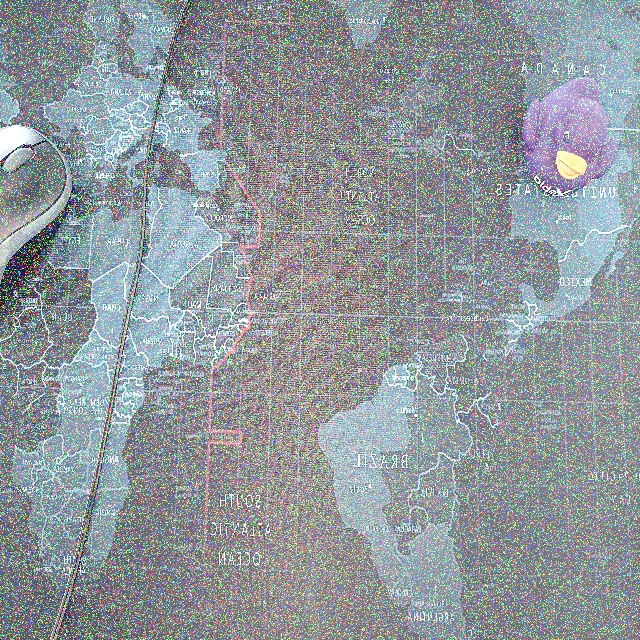led: (405, 160, 530, 380), (395, 65, 420, 280)
